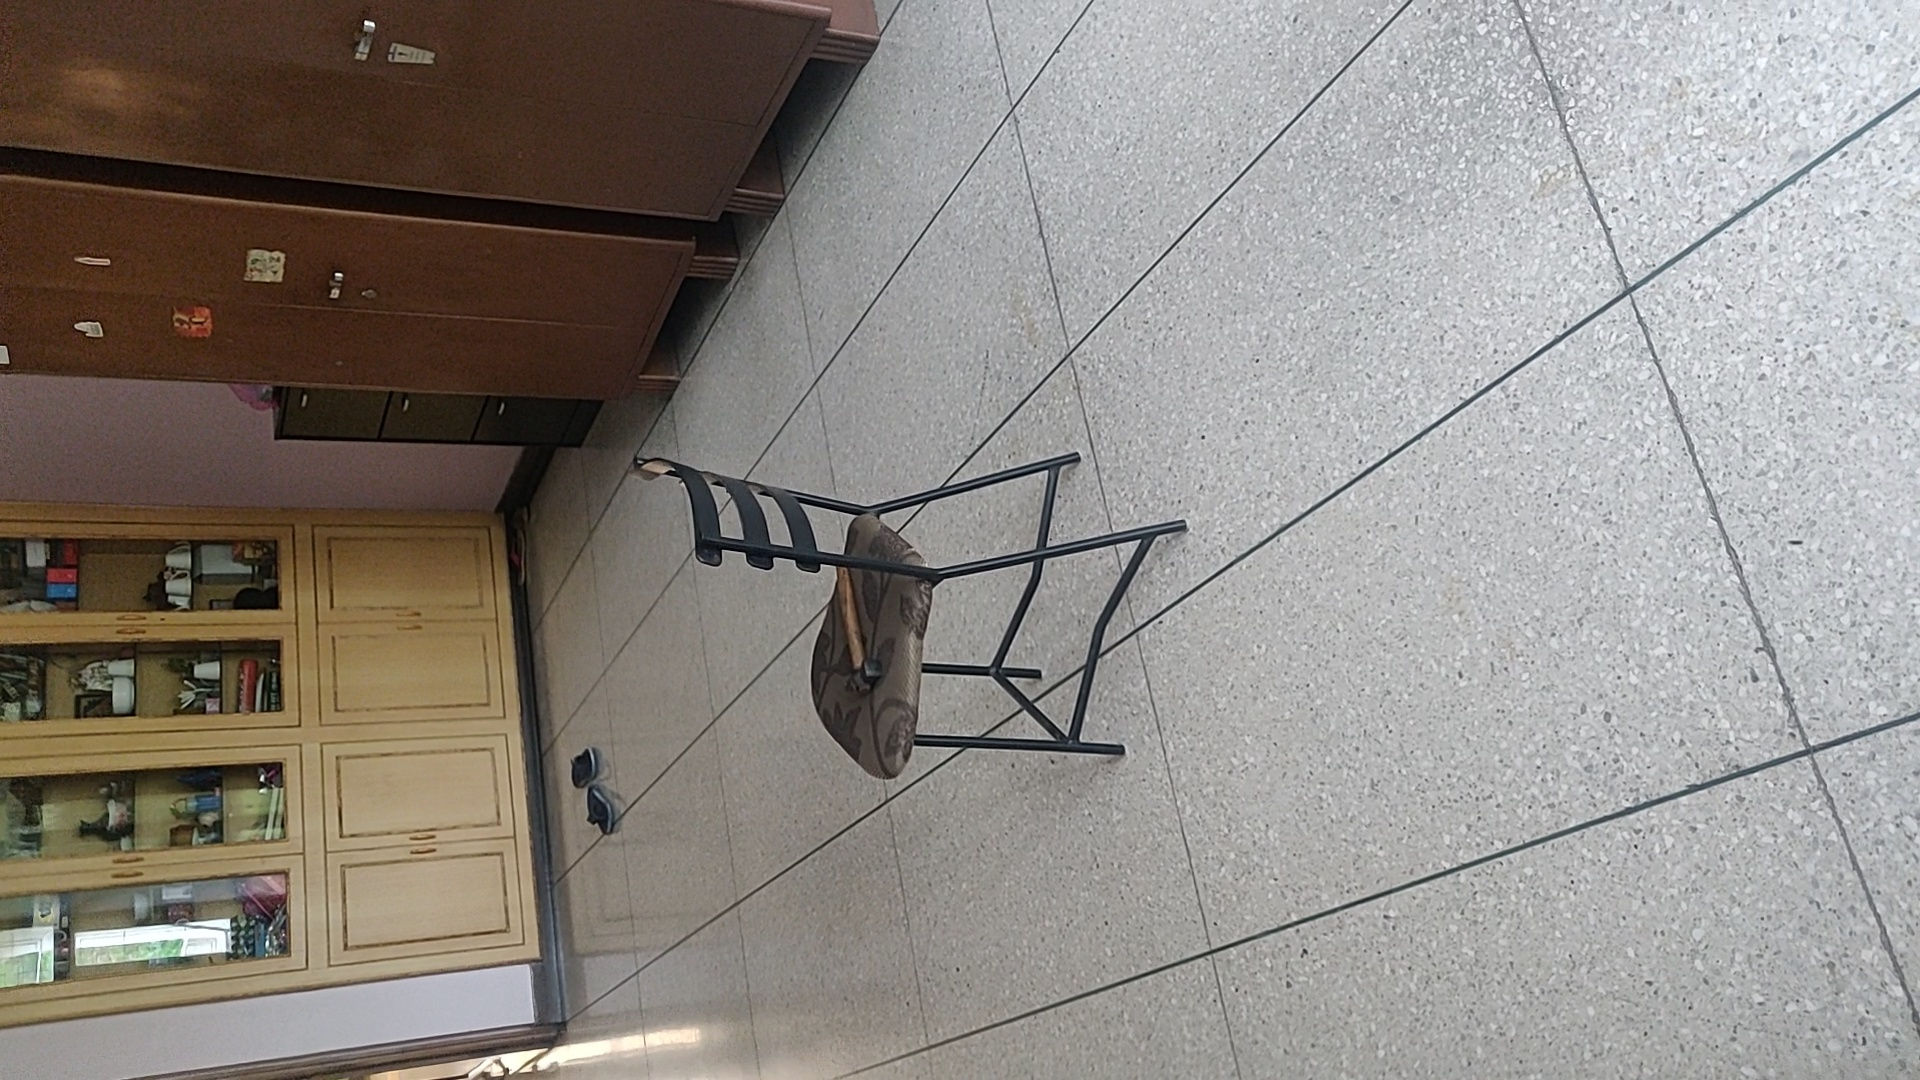hammer: (833, 566, 886, 698)
